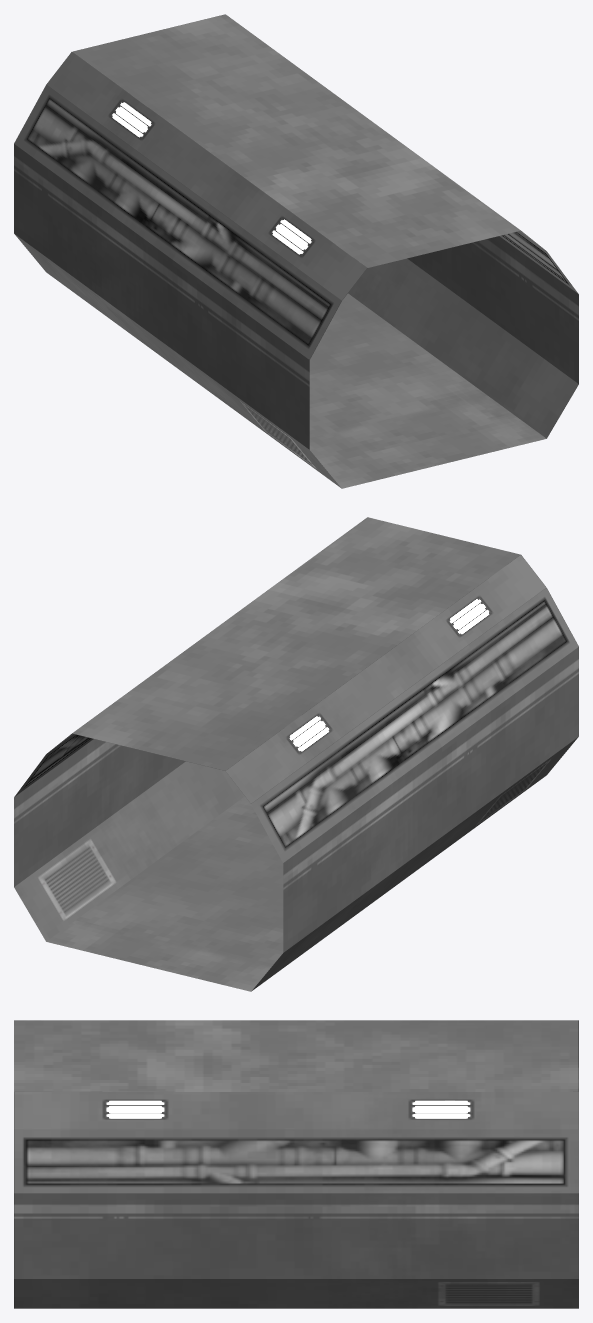
File: hallway_oct_3x_no_arch_tex.fbx
3 views of the same model, one above another, from view 1: azimuth 30°, elevation 25°; view 2: azimuth 150°, elevation 25°; view 3: azimuth 270°, elevation 25° (orthographic). The views are drawn at different scales.
Parts seen in each view (by area): view 1: hallway_oct.005; view 2: hallway_oct.005; view 3: hallway_oct.005.
Boxes of the visible parts, left/top/right/bottom form: hallway_oct.005: left=14, top=14, right=578, bottom=488; hallway_oct.005: left=14, top=517, right=578, bottom=991; hallway_oct.005: left=14, top=1020, right=578, bottom=1308.
Bounding box in the file's own units: 526 × 400 × 1000.
Materials: 1 (1 with a texture image).
